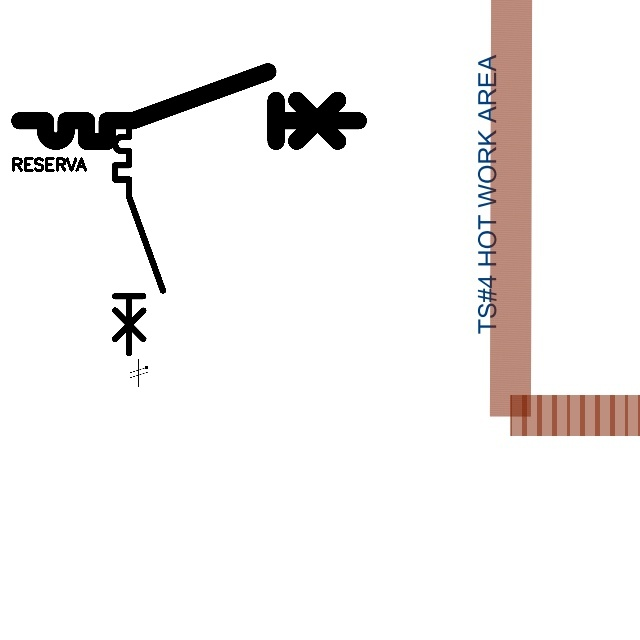interruptor_termomagnetico: (11, 63, 367, 150), (109, 113, 169, 359)
